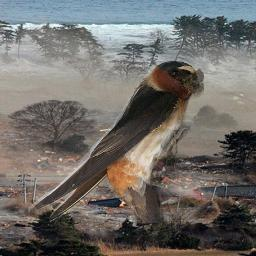Swallow: (28, 60, 204, 223)
